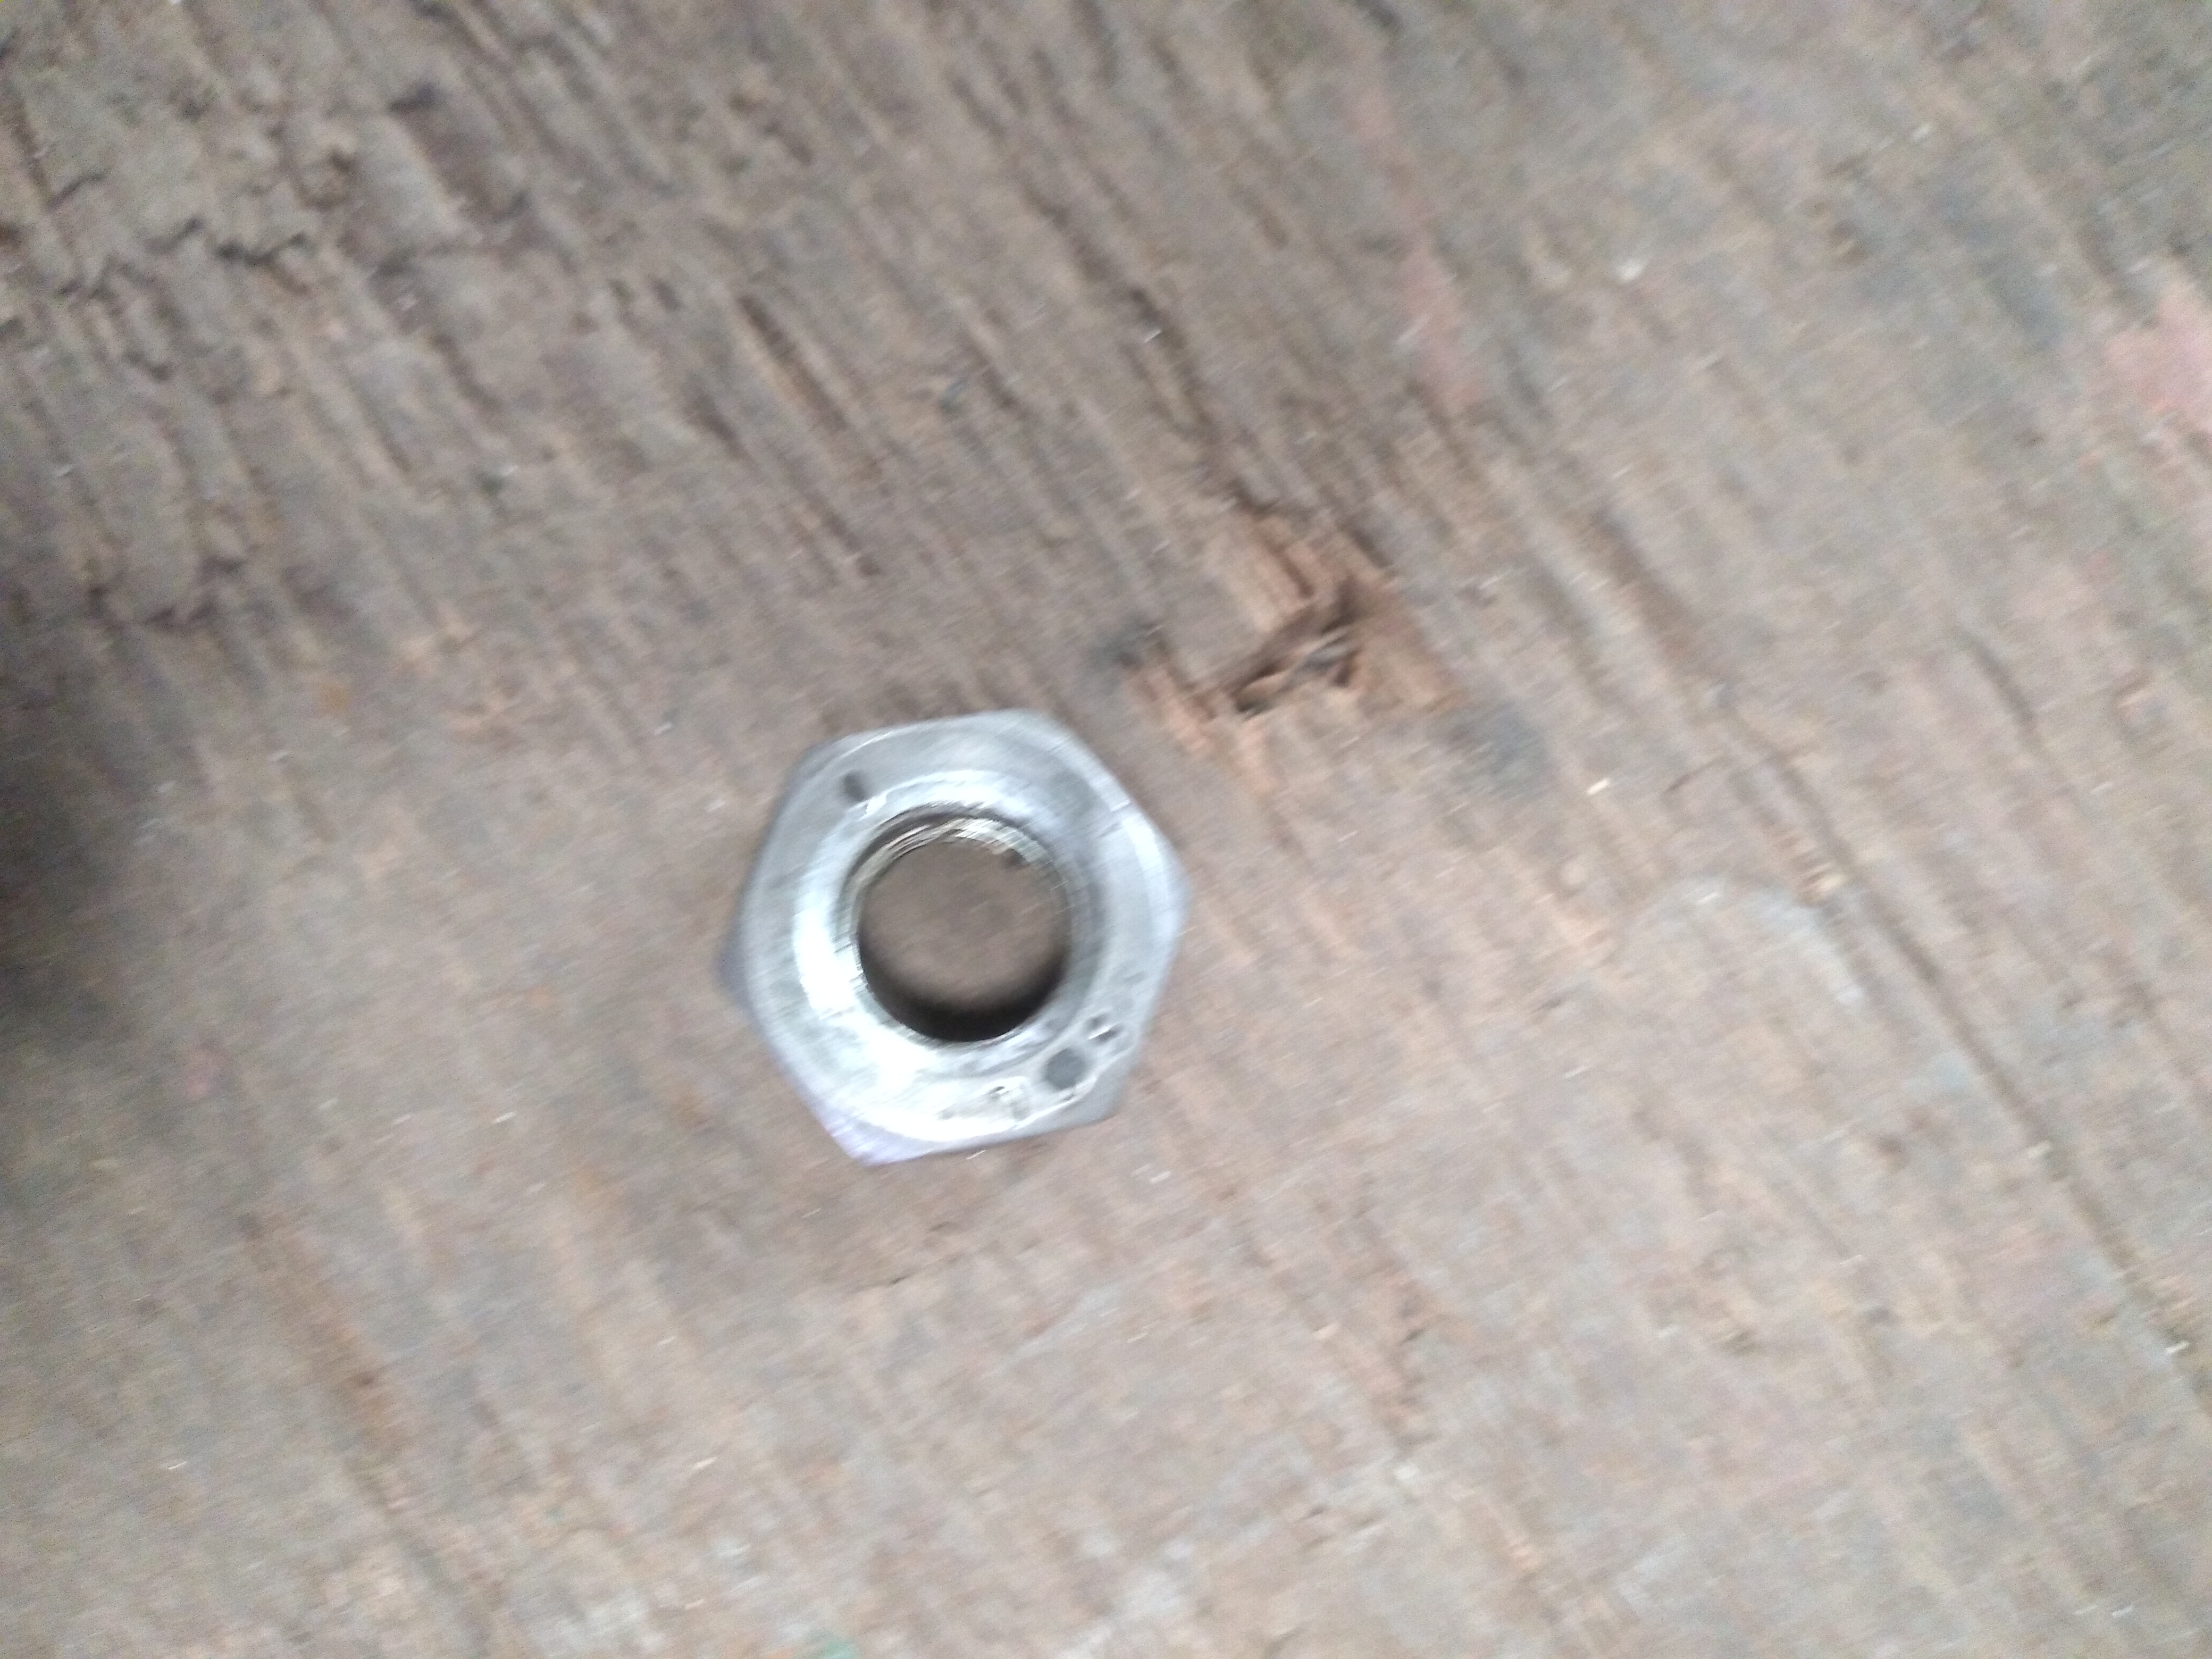Thread: (815, 777, 1122, 1049)
